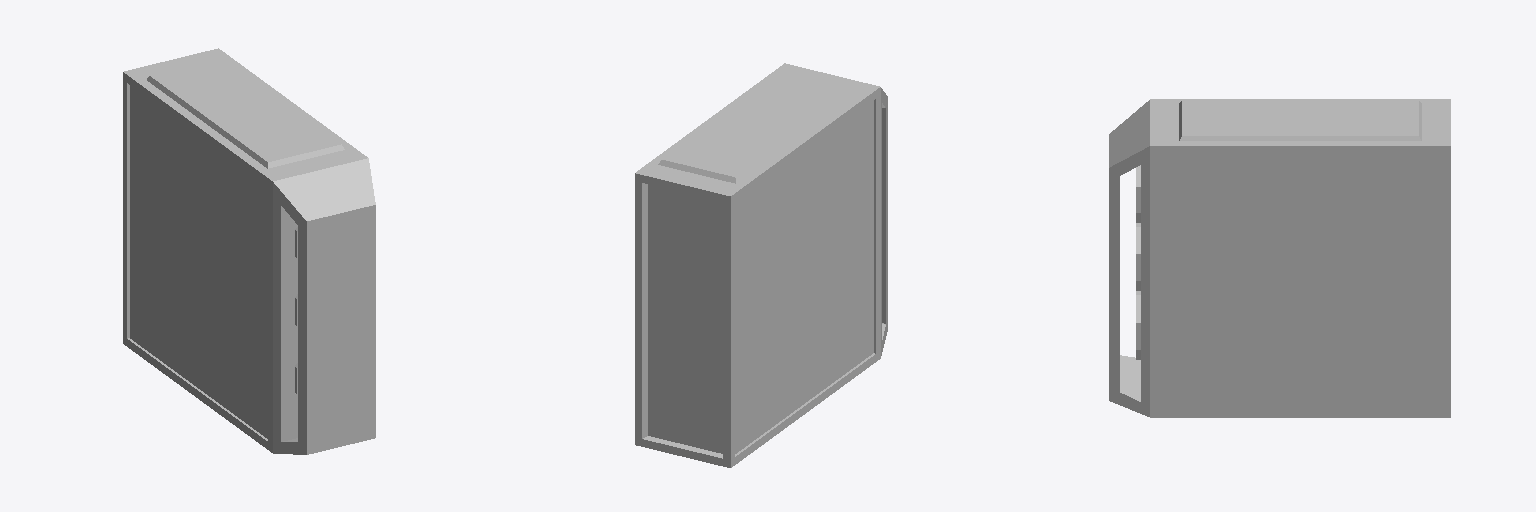
Rendered from SM_Prop_Computer_Tower_Modern_01_OBJ.obj.
3 renders of one model, left to right at view 1: azimuth 30°, elevation 25°; view 2: azimuth 150°, elevation 25°; view 3: azimuth 270°, elevation 25°, orthographic.
Parts seen in each view (by area): view 1: SM_Prop_Computer_Tower_Modern_Glass_01, SM_Prop_Computer_Tower_Modern_01; view 2: SM_Prop_Computer_Tower_Modern_01, SM_Prop_Computer_Tower_Modern_Glass_01; view 3: SM_Prop_Computer_Tower_Modern_01.
Boxes of the visible parts, <box> form: SM_Prop_Computer_Tower_Modern_Glass_01: <box>130,86,367,445</box>; SM_Prop_Computer_Tower_Modern_01: <box>123,48,375,454</box>; SM_Prop_Computer_Tower_Modern_01: <box>635,63,887,467</box>; SM_Prop_Computer_Tower_Modern_Glass_01: <box>735,100,873,453</box>; SM_Prop_Computer_Tower_Modern_01: <box>1109,99,1450,417</box>.
Bounding box in the file's own units: 9.14 × 25.16 × 28.11.